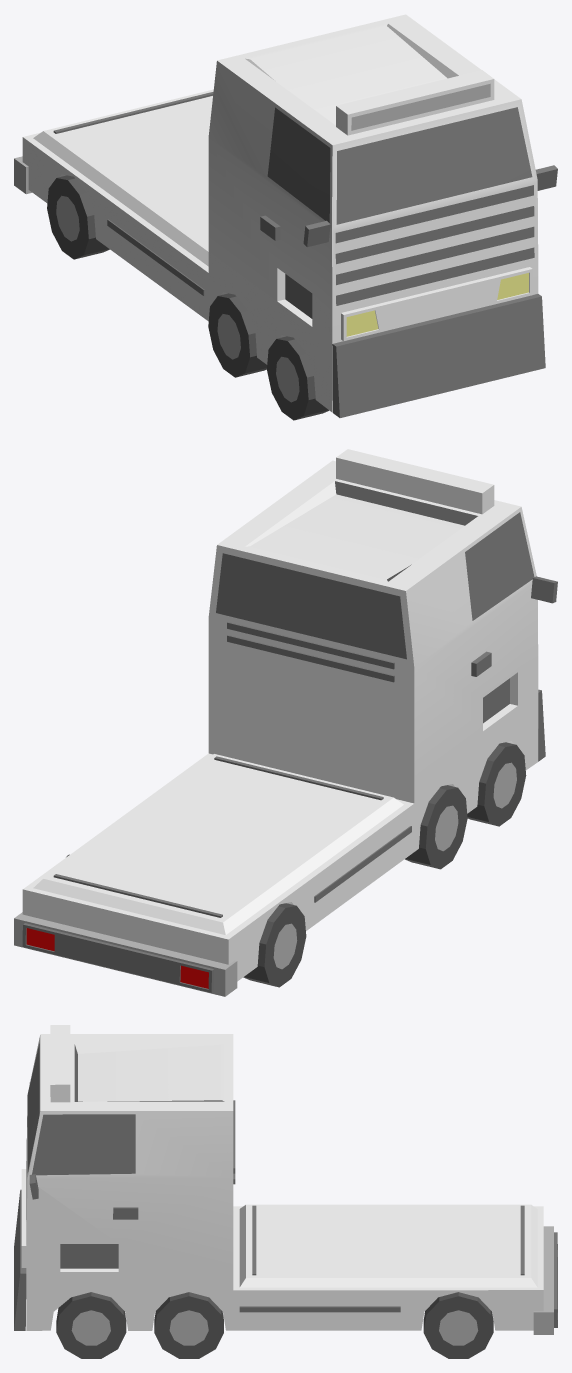
File: SM_Truck_01_01.FBX
The picture shows the model from 3 angles, top to bottom: view 1: azimuth 30°, elevation 25°; view 2: azimuth 150°, elevation 25°; view 3: azimuth 270°, elevation 25°; orthographic projection. The views are drawn at different scales.
Visible parts, largest first — view 1: SM_Truck_01_01, SM_Wheel_RBack, SM_Wheel_RFront, SM_Wheel_RMid; view 2: SM_Truck_01_01, SM_Wheel_RMid, SM_Wheel_RBack, SM_Wheel_RFront; view 3: SM_Truck_01_01, SM_Wheel_LFront001, SM_Wheel_LBack, SM_Wheel_LMid.
Part boxes in pixels (x1=…): SM_Truck_01_01: x1=14, y1=14, x2=557, y2=417; SM_Wheel_RBack: x1=47, y1=175, x2=109, y2=259; SM_Wheel_RFront: x1=267, y1=336, x2=328, y2=420; SM_Wheel_RMid: x1=208, y1=293, x2=267, y2=377; SM_Truck_01_01: x1=14, y1=449, x2=557, y2=996; SM_Wheel_RMid: x1=405, y1=785, x2=467, y2=869; SM_Wheel_RBack: x1=243, y1=903, x2=306, y2=987; SM_Wheel_RFront: x1=467, y1=742, x2=526, y2=826; SM_Truck_01_01: x1=14, y1=1025, x2=557, y2=1334; SM_Wheel_LFront001: x1=56, y1=1292, x2=126, y2=1358; SM_Wheel_LBack: x1=423, y1=1292, x2=493, y2=1358; SM_Wheel_LMid: x1=154, y1=1292, x2=223, y2=1358.
Bounding box in the file's own units: 1.85 × 2.21 × 4.19.
1 material, 1 textured.
